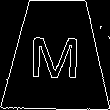M_N: (29, 29, 83, 80)
